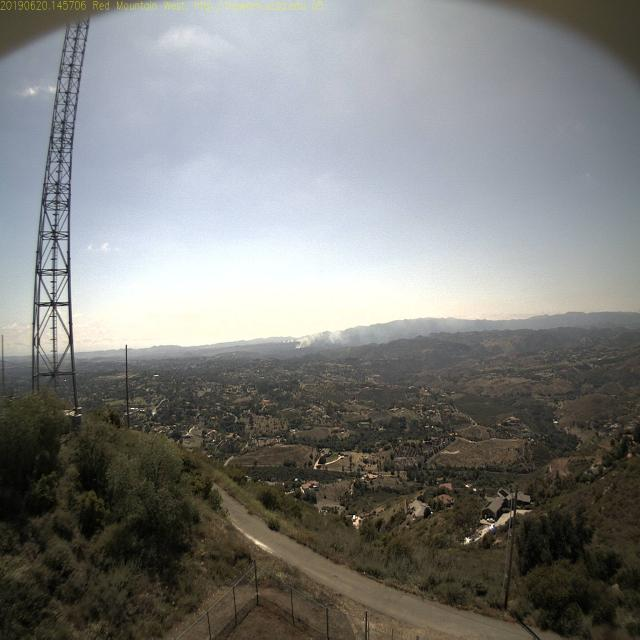smoke: (292, 330, 321, 358), (278, 332, 296, 355)
